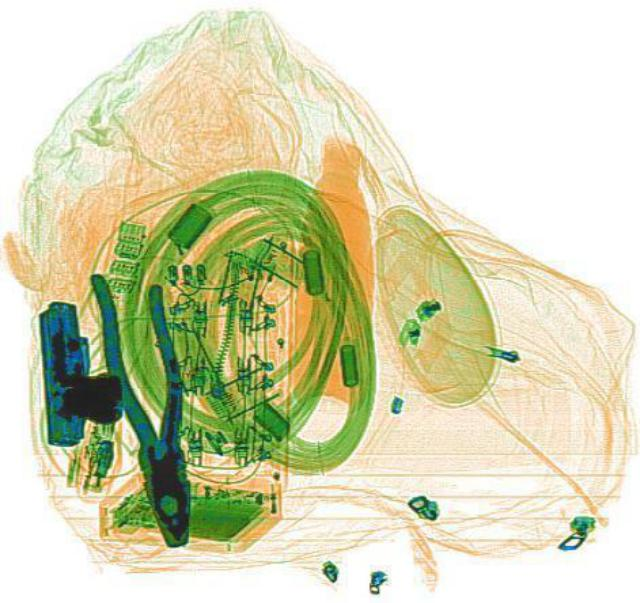Gun: (36, 300, 119, 445)
Pliers: (84, 261, 208, 548)
